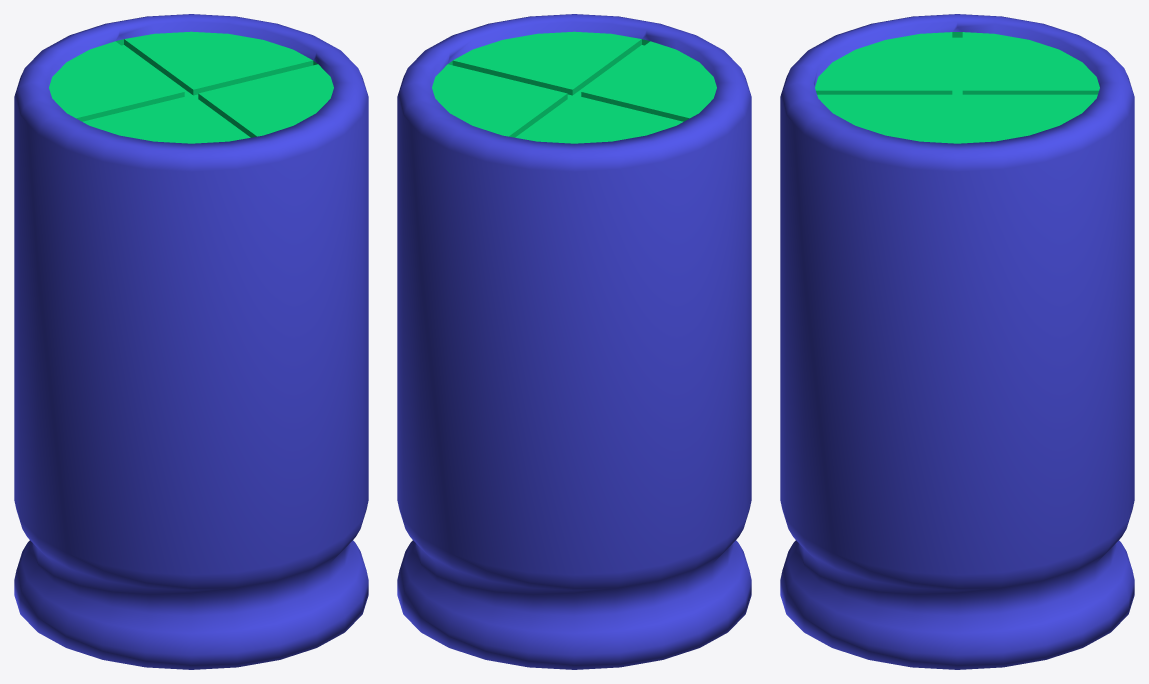
File: capacitor.fbx
3 renders of one model, left to right at view 1: azimuth 30°, elevation 25°; view 2: azimuth 150°, elevation 25°; view 3: azimuth 270°, elevation 25°, orthographic.
Parts seen in each view (by area): view 1: Cylinder; view 2: Cylinder; view 3: Cylinder.
Boxes of the visible parts, box(x1,y1,x2,y2) form: Cylinder: box(14, 14, 368, 669); Cylinder: box(397, 14, 751, 669); Cylinder: box(780, 14, 1134, 669).
Bounding box in the file's own units: 200 × 319 × 200.
